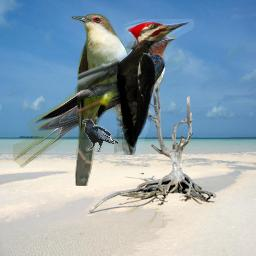Crow: (82, 119, 118, 152)
Cuckoo: (71, 13, 129, 186)
Swallow: (13, 31, 177, 168)
Woodpecker: (107, 19, 194, 155)
